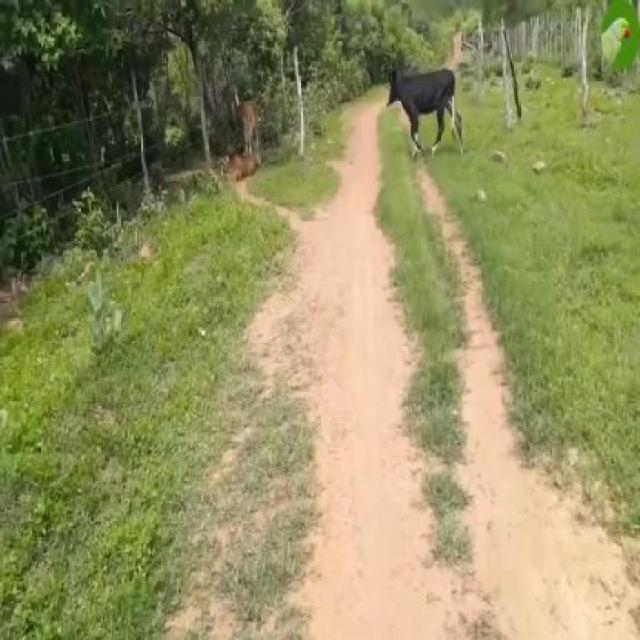Cow: (388, 66, 464, 162)
